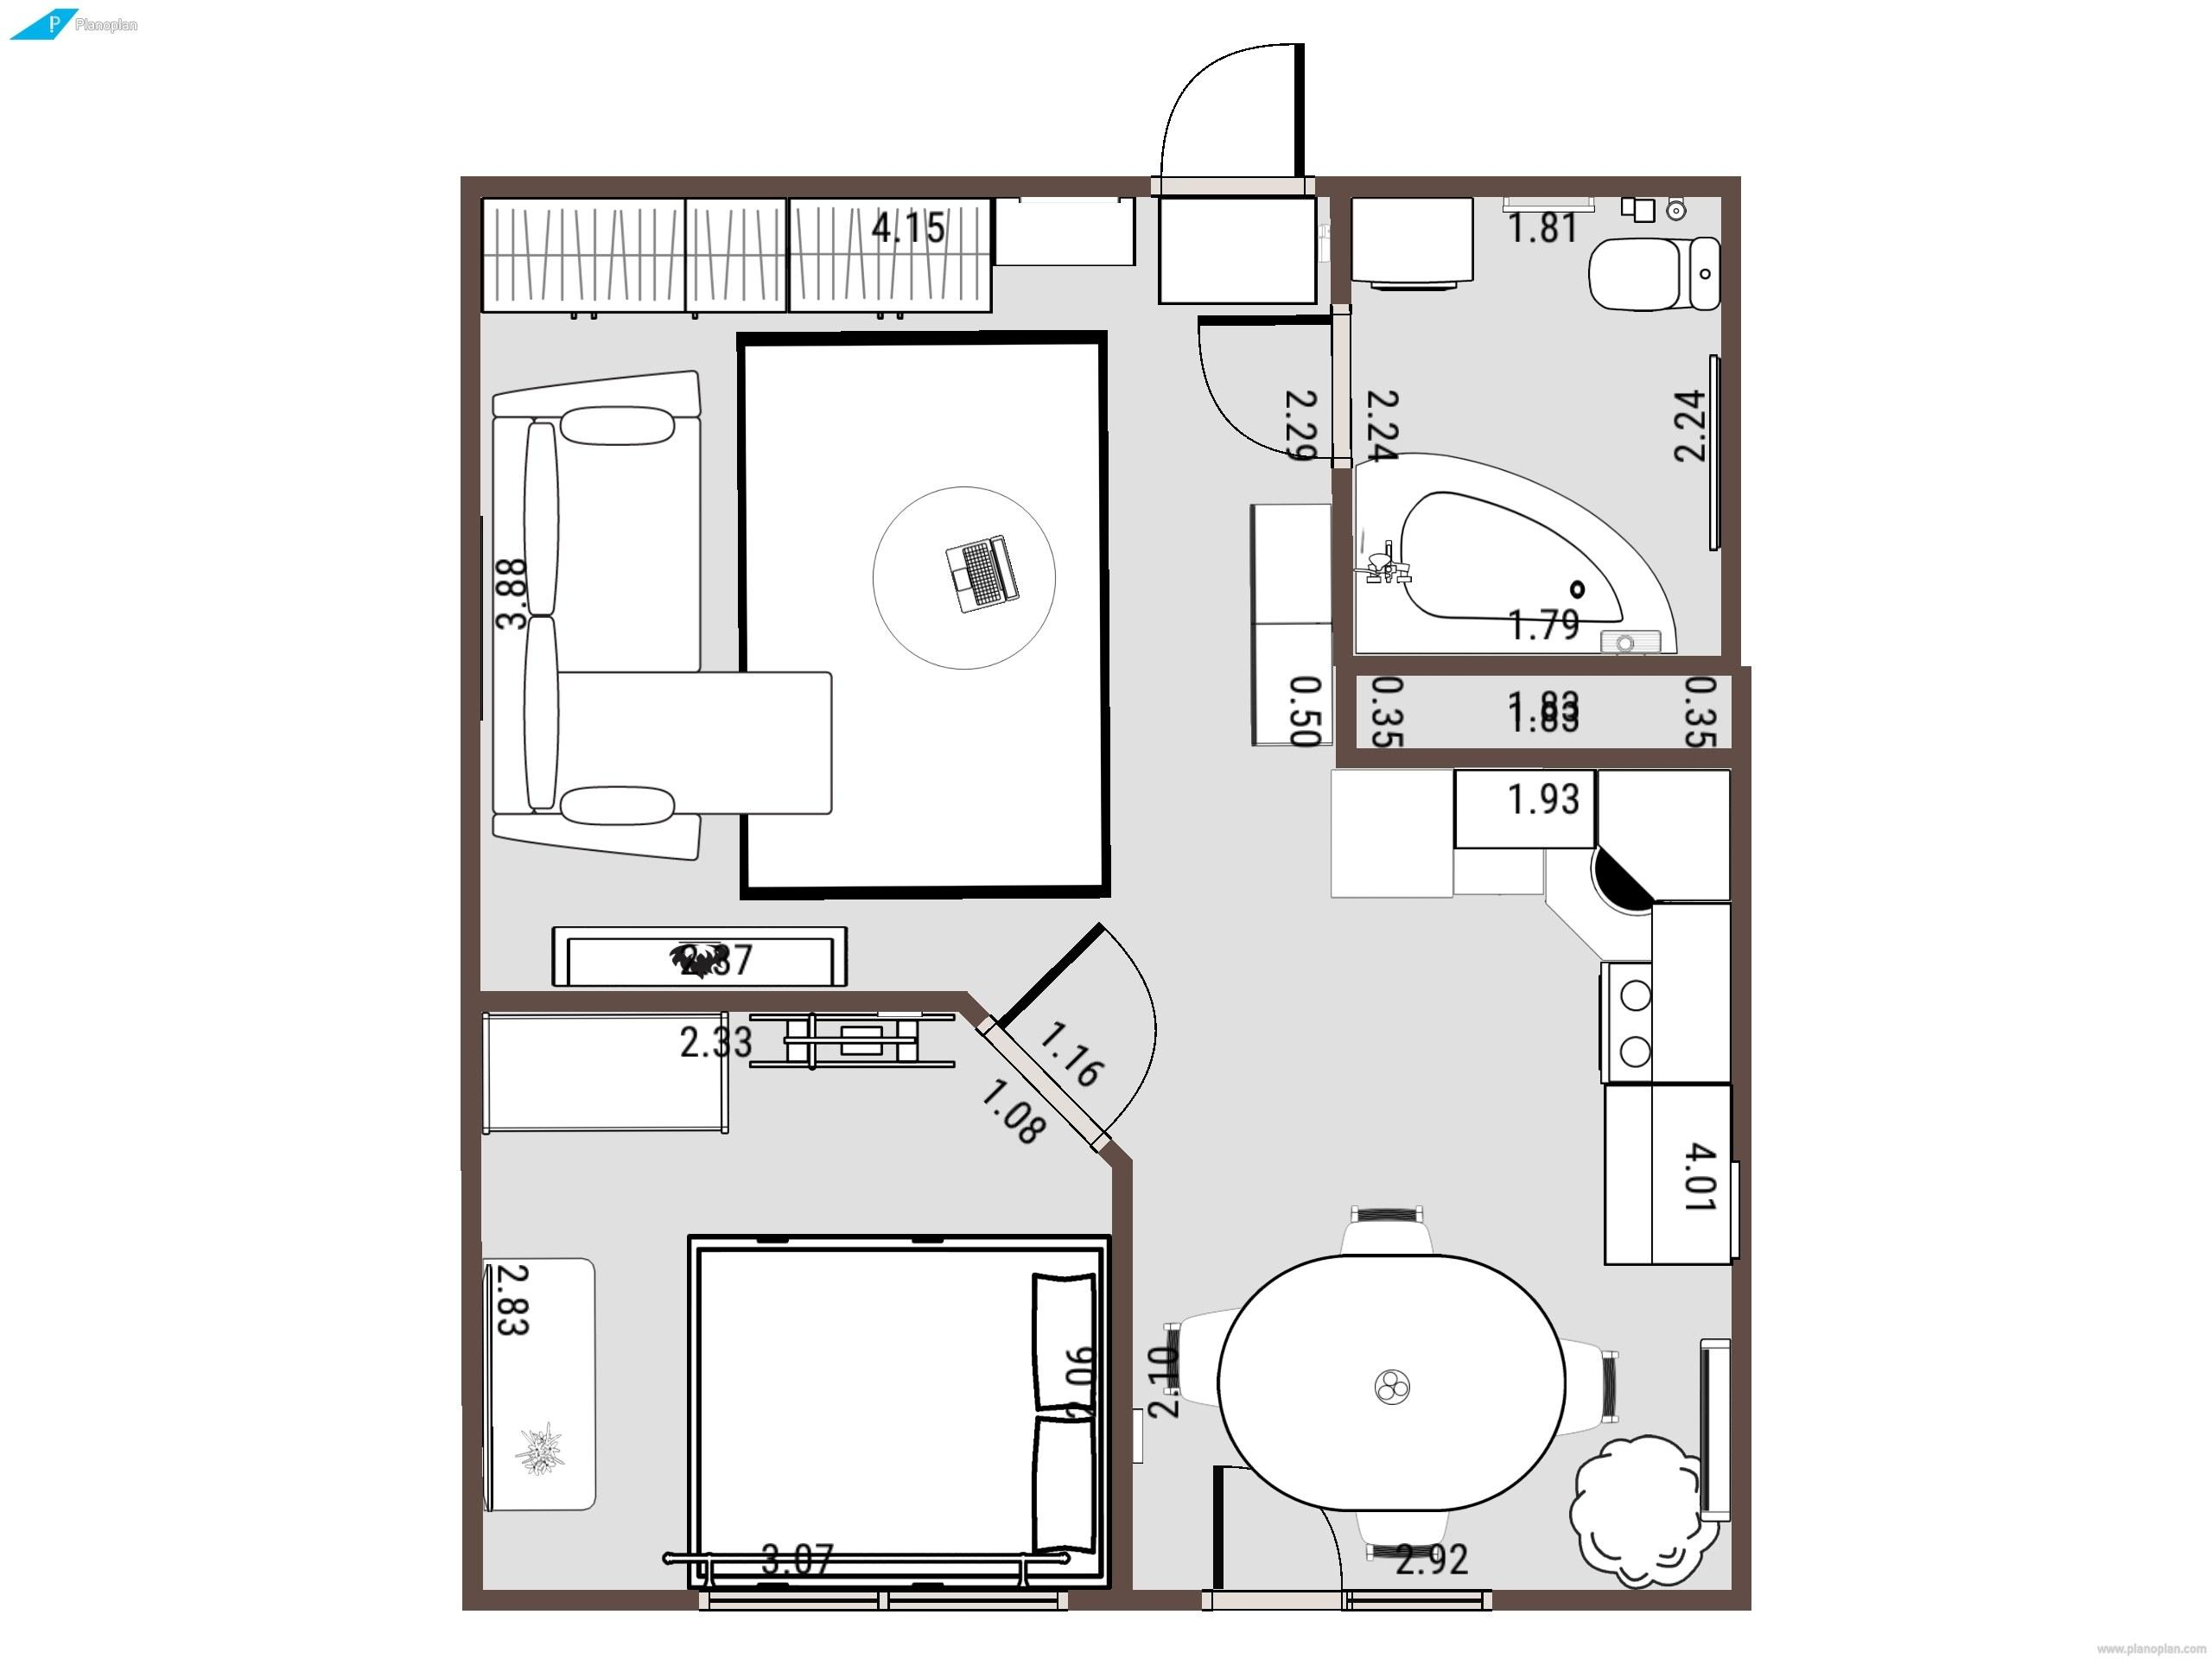bathroom: (1355, 194, 1728, 661)
bedroom: (482, 1013, 1115, 1594)
hallway: (975, 192, 1339, 1151)
kitchen: (1130, 767, 1741, 1590)
living_room: (477, 197, 1154, 994)
utility_room: (1357, 674, 1730, 753)
